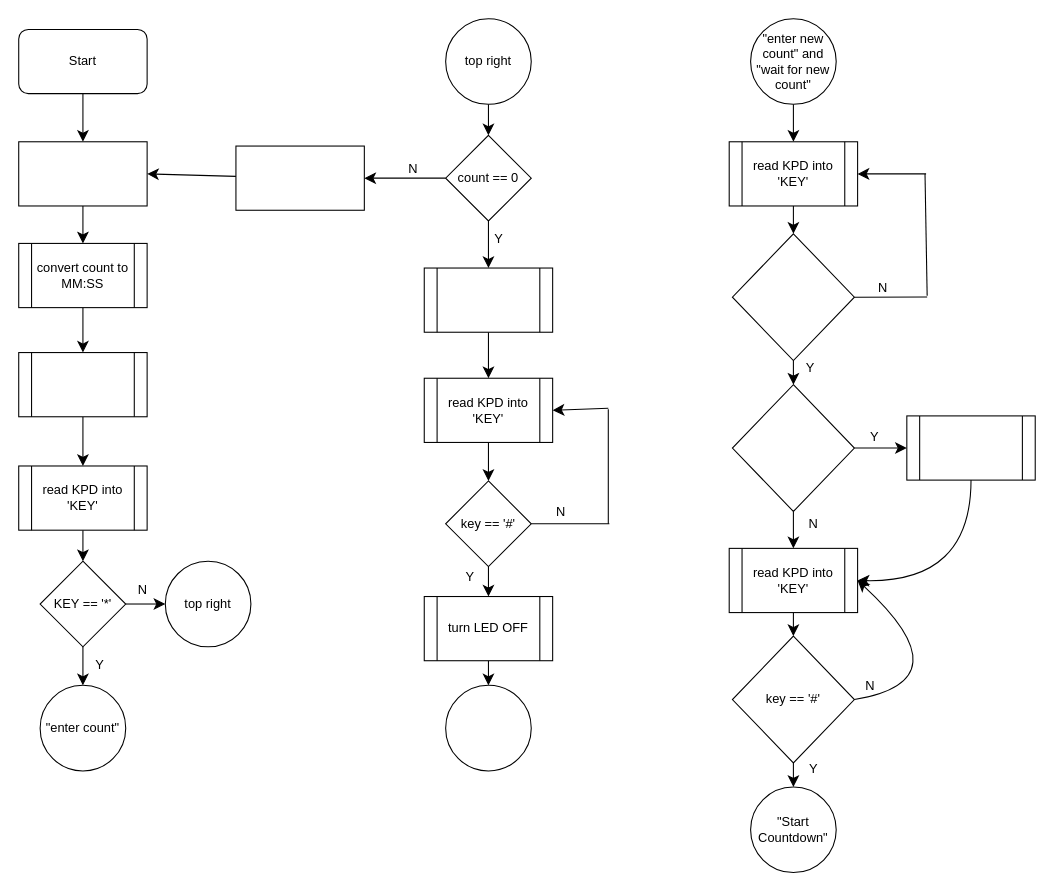
Some shapes in this 1054 by 891 pixel diagram are drawn without their labels. The box of each missing label's shape, as (x1, y1, x2, y2) in pixels:
"wait for new count": (445, 684, 531, 771)
Count -- (Countdown): (18, 141, 147, 206)
delay: (235, 145, 364, 210)
display MM:SS on LCD: (18, 351, 147, 417)
MM:SS = 59:59: (906, 415, 1035, 480)
MM:SS >= 59:59: (731, 384, 854, 511)
numeric keys pressed == 4: (731, 233, 854, 361)
turn LED ON: (423, 267, 553, 332)
